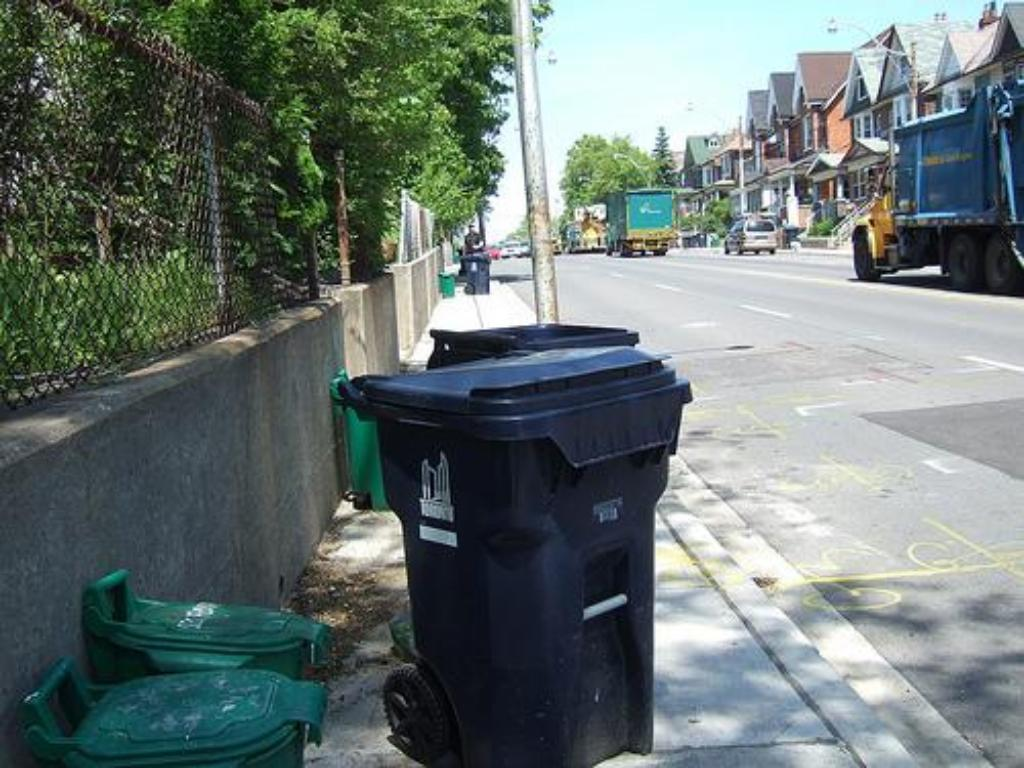dustbin: (352, 341, 670, 768)
